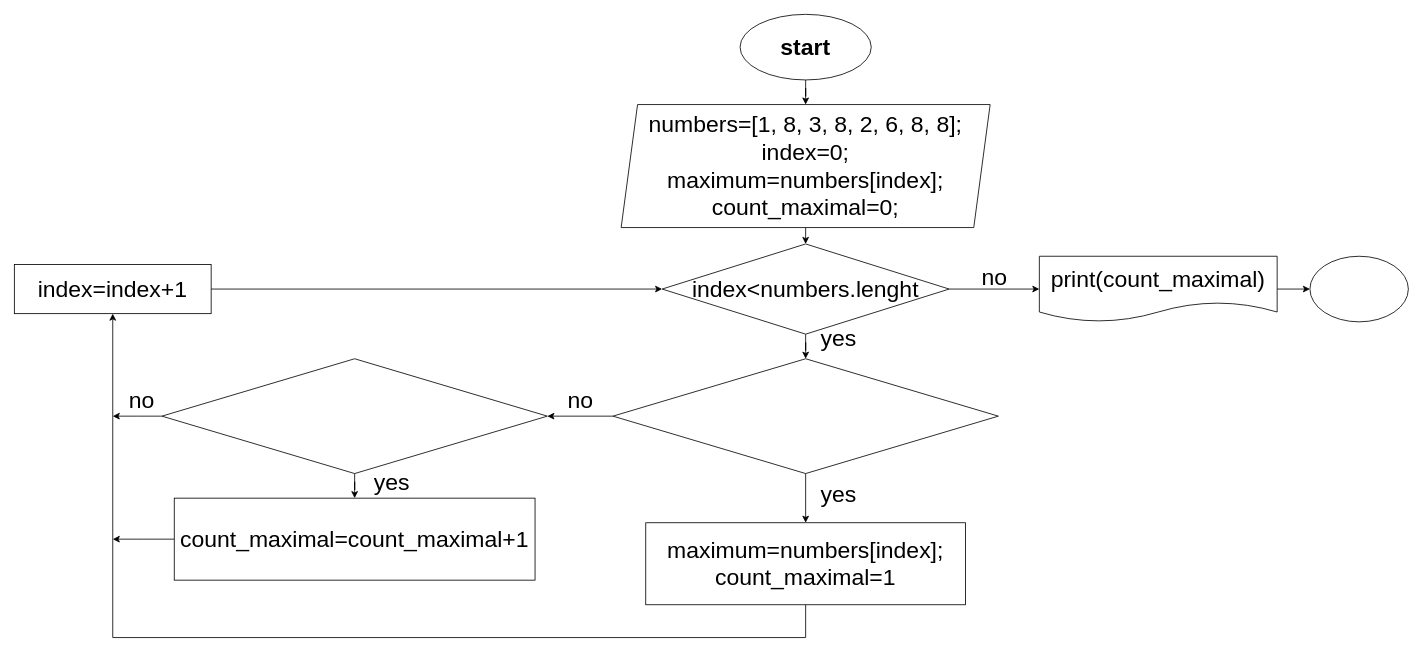
This 1423x658 diagram has some shape labels left out. Each missing label, with the centre of its shape:
end: the point at 1358,288
numbers[index]==maximum: the point at 354,416
numbers[index]>maximum: the point at 805,416
